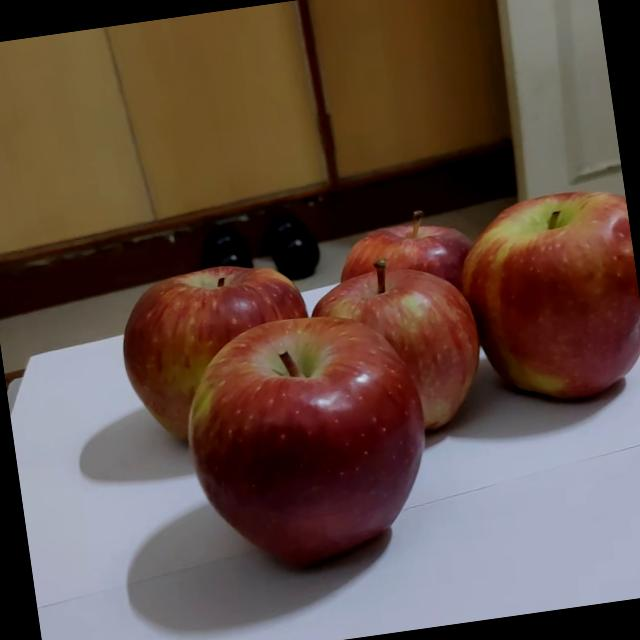apple: (205, 308, 470, 584), (82, 267, 300, 479), (411, 195, 622, 414), (281, 257, 468, 445), (281, 222, 440, 378)
